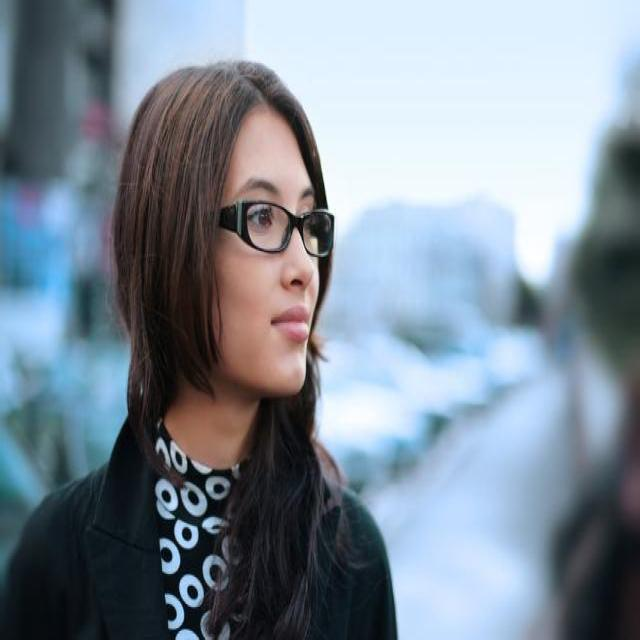glasses: (221, 200, 337, 260)
